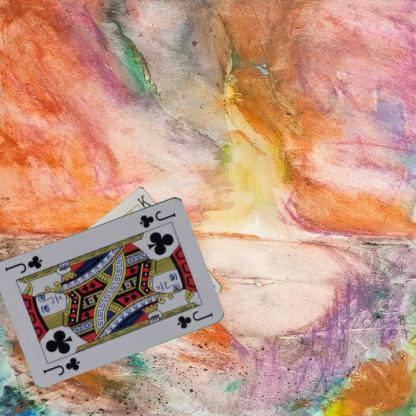Jc: (40, 354, 81, 377), (137, 207, 177, 230)
